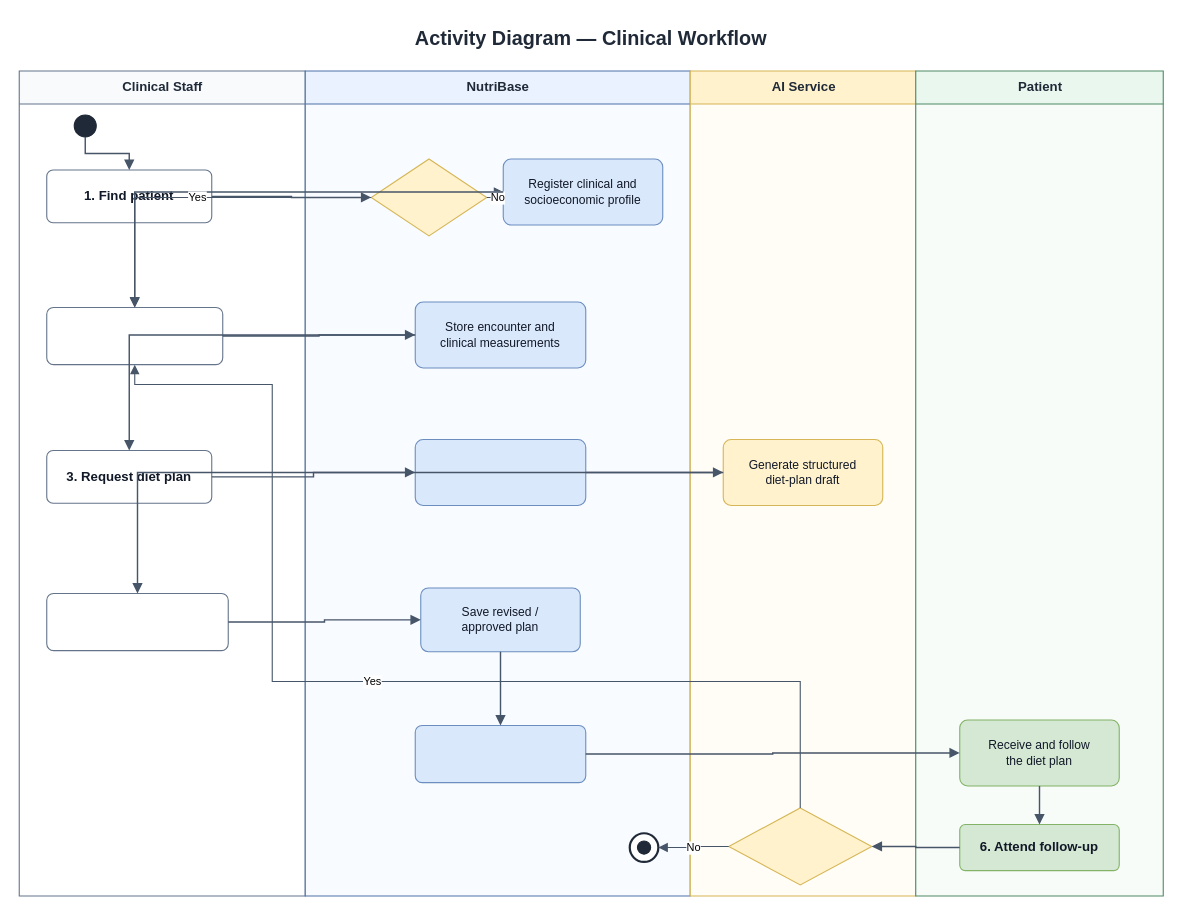
Some shapes in this 1183 by 915 pixel diagram are drawn without their labels. Here are the shapes that lost their labels. From the top down, the centre of each, then its label:
At (x=428, y=197): "Patient exists?".
At (x=134, y=335): "2. Record visit and vitals".
At (x=500, y=471): "Prepare patient context and queue generation".
At (x=137, y=621): "4. Review and revise plan".
At (x=500, y=753): "5. Deliver approved plan".
At (x=800, y=846): "Further care required?".
